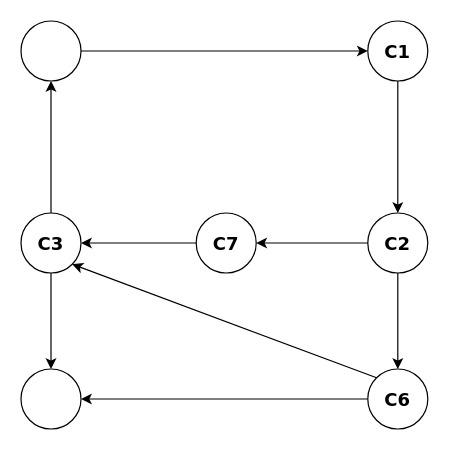
Image size: 449x450. Some labels were removed from this diagram. Here are the shapes that lost their labels. From the top down, the centre of each, then its label:
point (50, 50): C4
point (50, 398): C5
